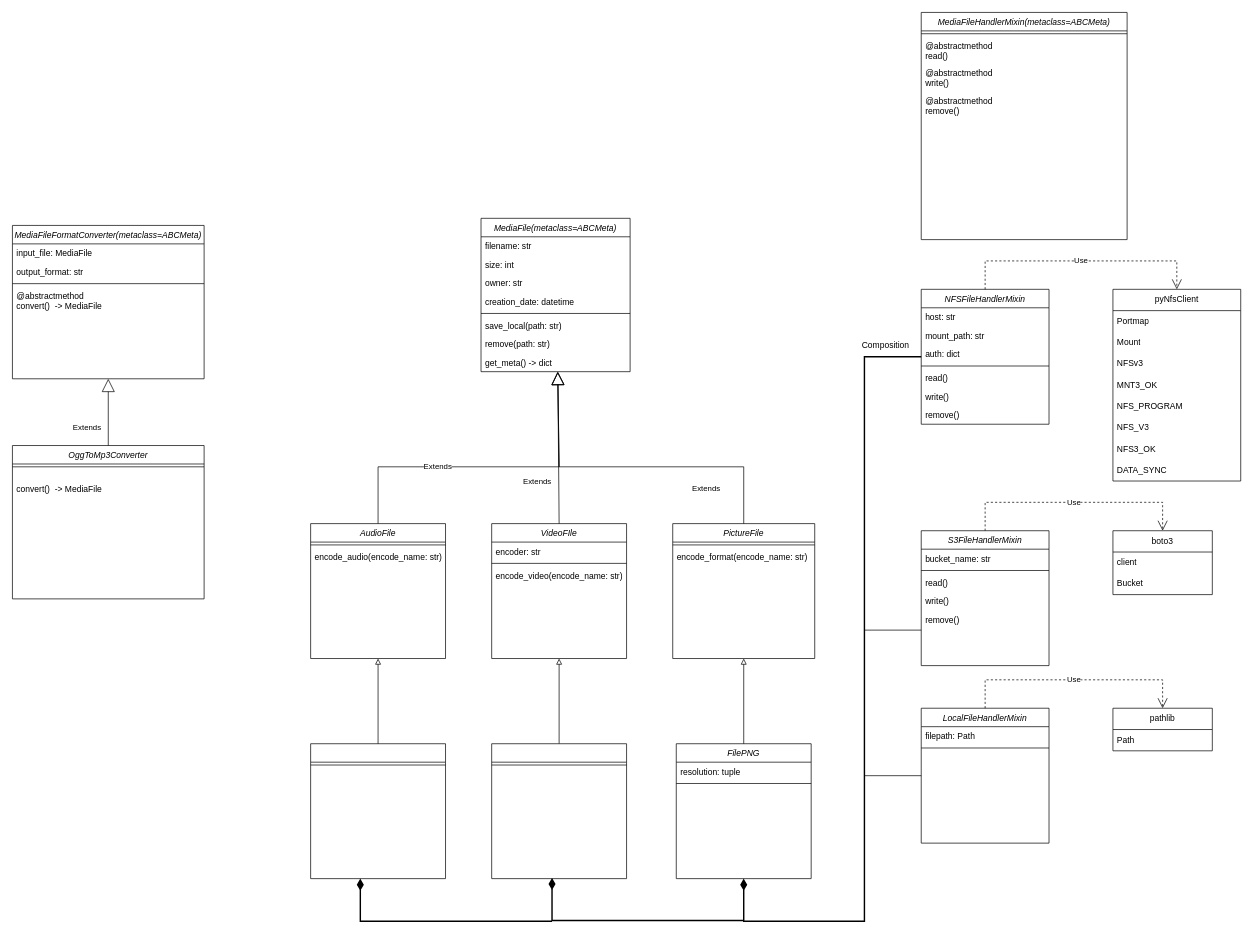
This 1253x944 diagram has some shape labels left out. Each missing label, with the centre of its shape:
FileMP3: (378,811)
FileMP4: (559,811)
